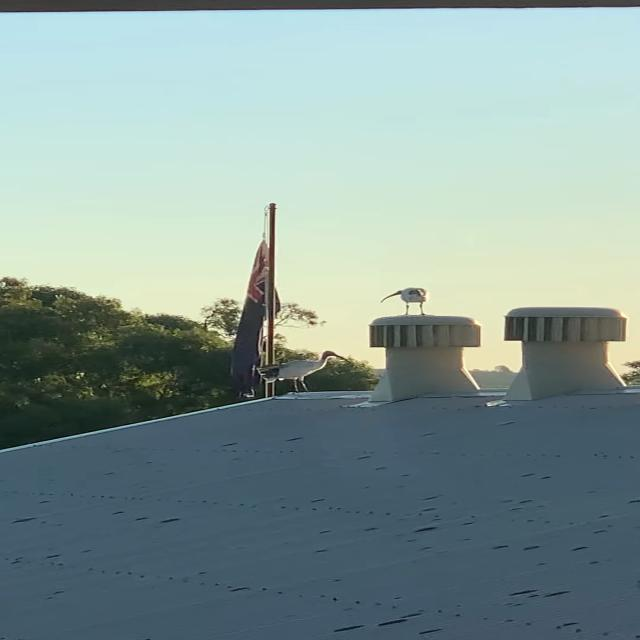Birds-Ibis: (254, 348, 355, 394), (378, 286, 433, 318)
